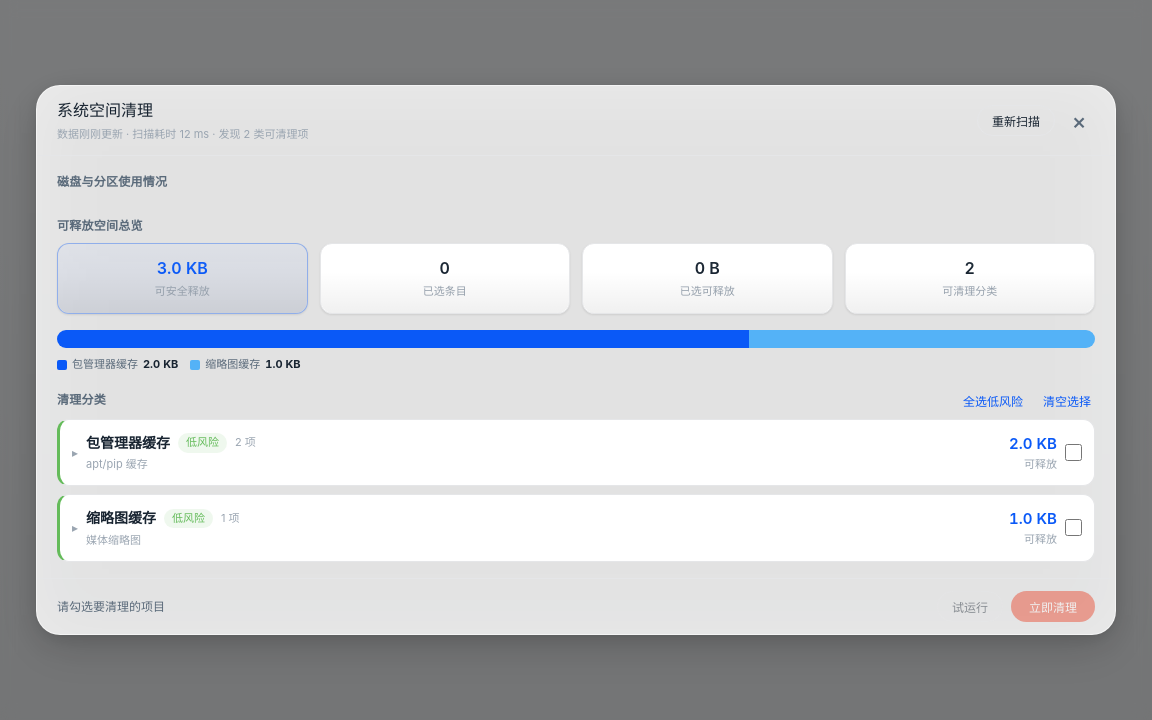
Test: SpaceCleanPanel 清理分类折叠 › 点击分类头展开该分类，再次点击收起
Click the element with class "category-head" that starts with "包管理器缓存" at (128, 442), box top-left (72, 433), bottom-right (1082, 471)
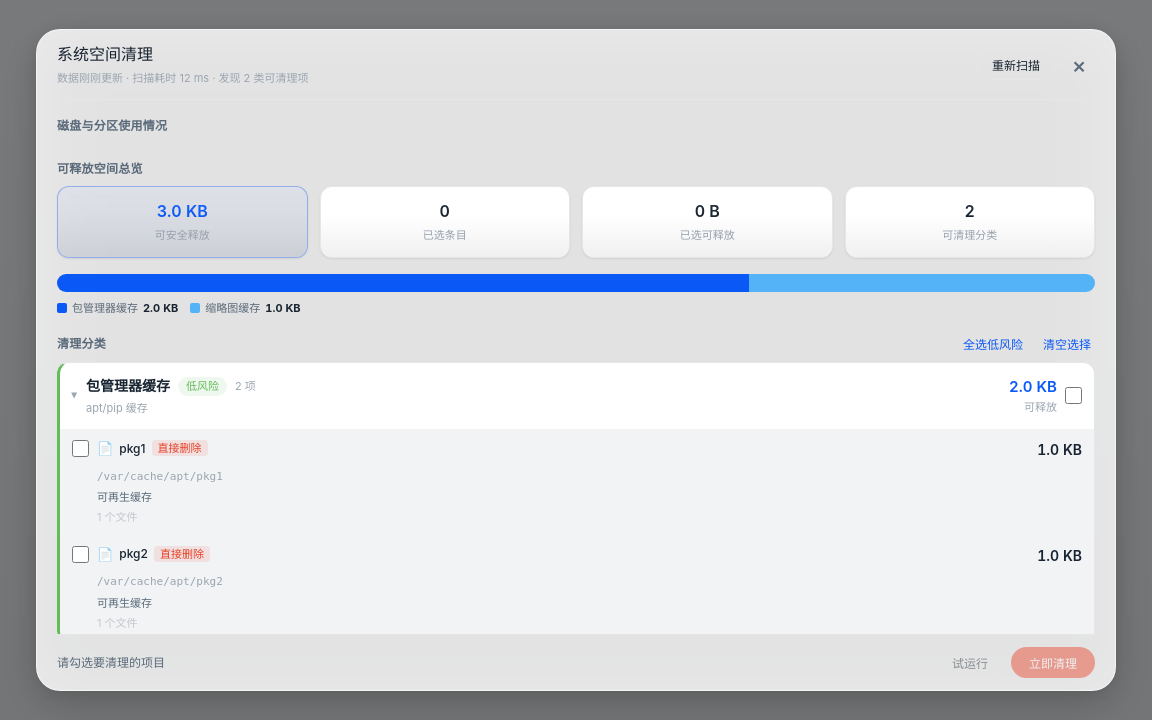
Expected: the number of elements with class "item-list" is 1, top-left (60, 429), bottom-right (1094, 634)
Expected: the text "pkg1" is shown, top-left (119, 438), bottom-right (146, 458)
Click the element with class "category-head" at (128, 386), box top-left (68, 377), bottom-right (1082, 415)
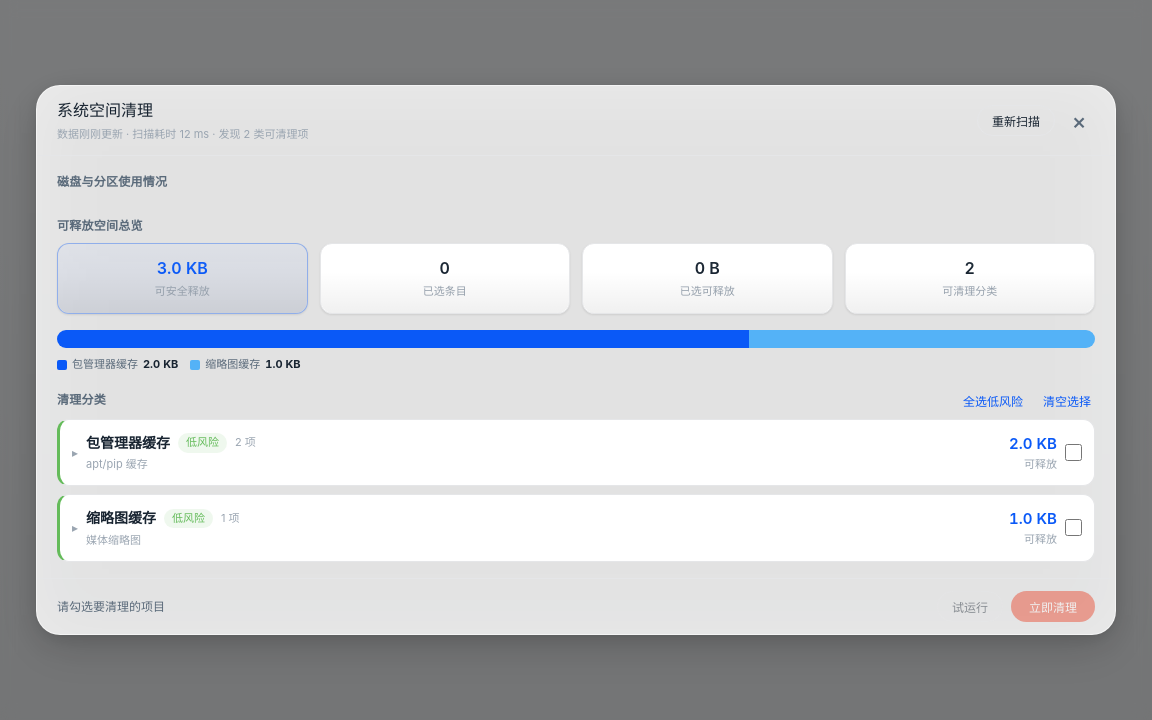
Expected: no elements with class "item-list" are shown
